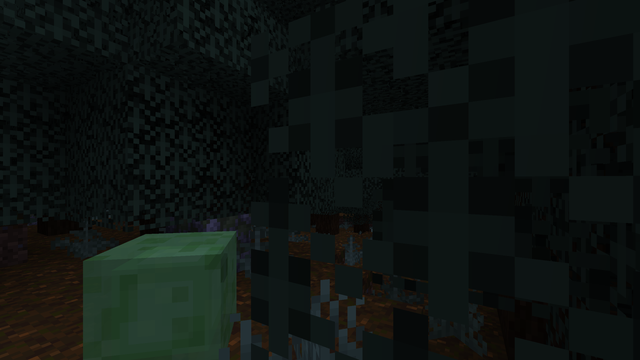slimes: (88, 225, 236, 358)
